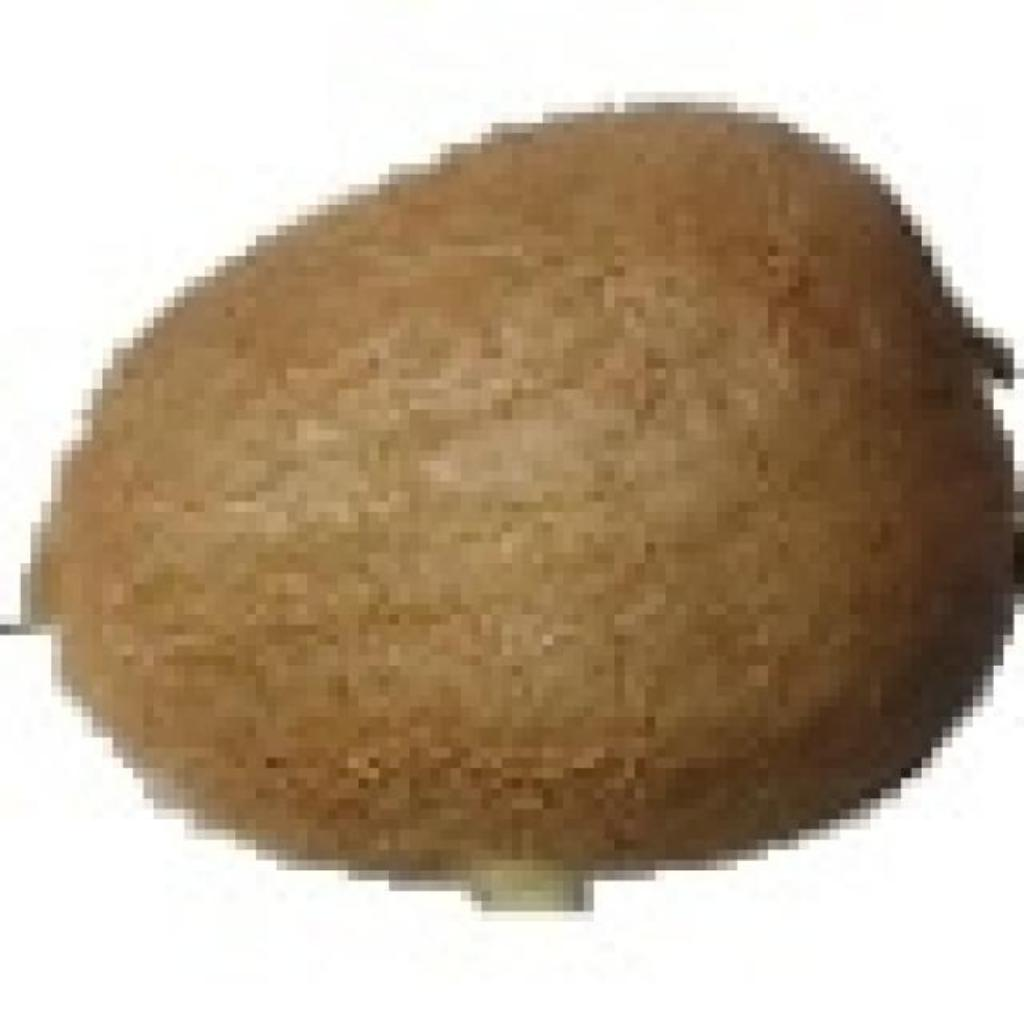kiwi: (20, 92, 993, 870)
